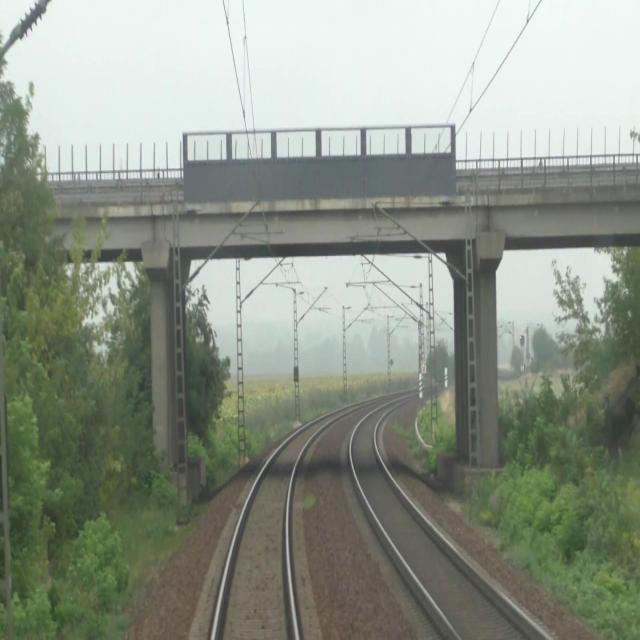rail-track: (353, 409, 543, 639), (216, 421, 322, 639)
